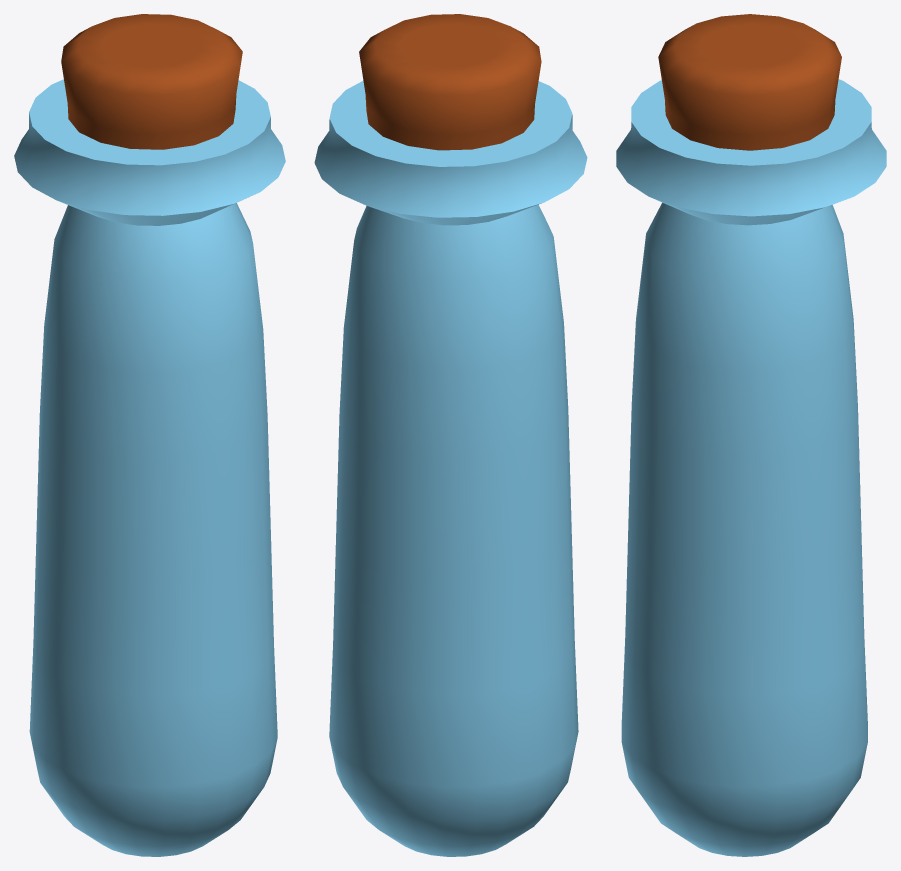
Rendered from FlaskThin.fbx.
The picture shows the model from 3 angles, left to right: view 1: azimuth 30°, elevation 25°; view 2: azimuth 150°, elevation 25°; view 3: azimuth 270°, elevation 25°; orthographic projection.
Parts seen in each view (by area): view 1: FlaskThin; view 2: FlaskThin; view 3: FlaskThin.
Part boxes in pixels (x1,y1,x2,y2): FlaskThin: [14, 14, 285, 856]; FlaskThin: [314, 14, 587, 856]; FlaskThin: [616, 14, 886, 856].
Bounding box in the file's own units: 7.67 × 24.78 × 7.59.
